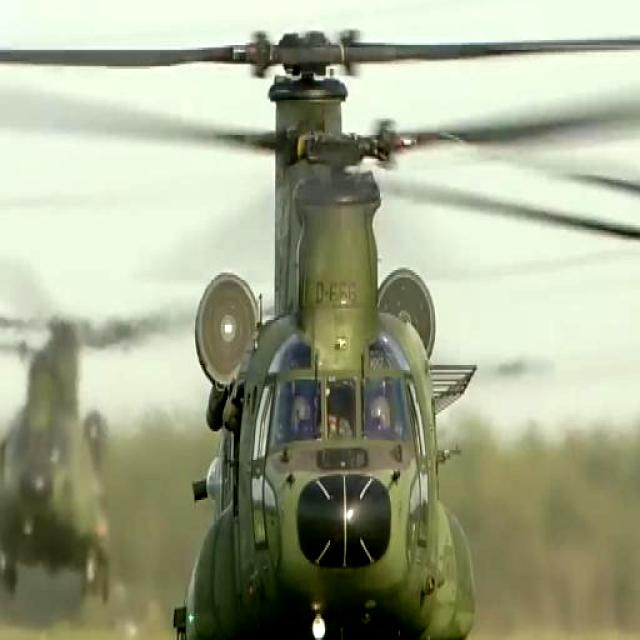drone: (0, 16, 640, 640), (361, 30, 640, 640)
